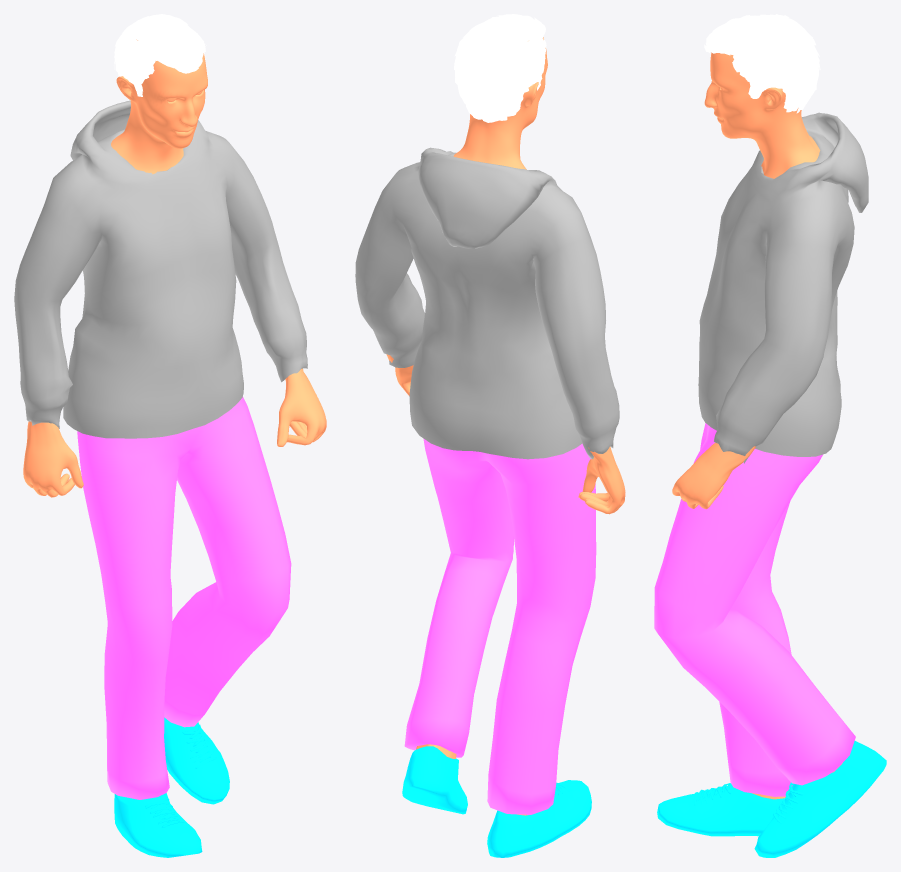
Rendered from people2.glb.
3 renders of one model, left to right at view 1: azimuth 30°, elevation 25°; view 2: azimuth 150°, elevation 25°; view 3: azimuth 270°, elevation 25°, orthographic. The views are drawn at different scales.
Visible parts, largest first — view 1: Top.002, Bottoms.002, Body.002, Shoes.002, Hair.002; view 2: Top.002, Bottoms.002, Hair.002, Shoes.002, Body.002; view 3: Top.002, Bottoms.002, Shoes.002, Body.002, Hair.002.
Boxes of the visible parts, box(x1,y1,x2,y2) form: Top.002: box(14, 100, 307, 438); Bottoms.002: box(77, 396, 291, 799); Body.002: box(23, 39, 326, 497); Shoes.002: box(114, 717, 229, 857); Hair.002: box(114, 14, 206, 96); Top.002: box(355, 147, 619, 459); Bottoms.002: box(404, 438, 596, 814); Hair.002: box(454, 14, 546, 122); Shoes.002: box(402, 746, 591, 857); Body.002: box(386, 37, 625, 815); Top.002: box(698, 112, 868, 463); Bottoms.002: box(654, 423, 855, 796); Shoes.002: box(657, 741, 886, 857); Body.002: box(672, 52, 842, 799); Hair.002: box(704, 14, 820, 113).
Bounding box in the file's own units: 0.605 × 1.79 × 0.4589.
